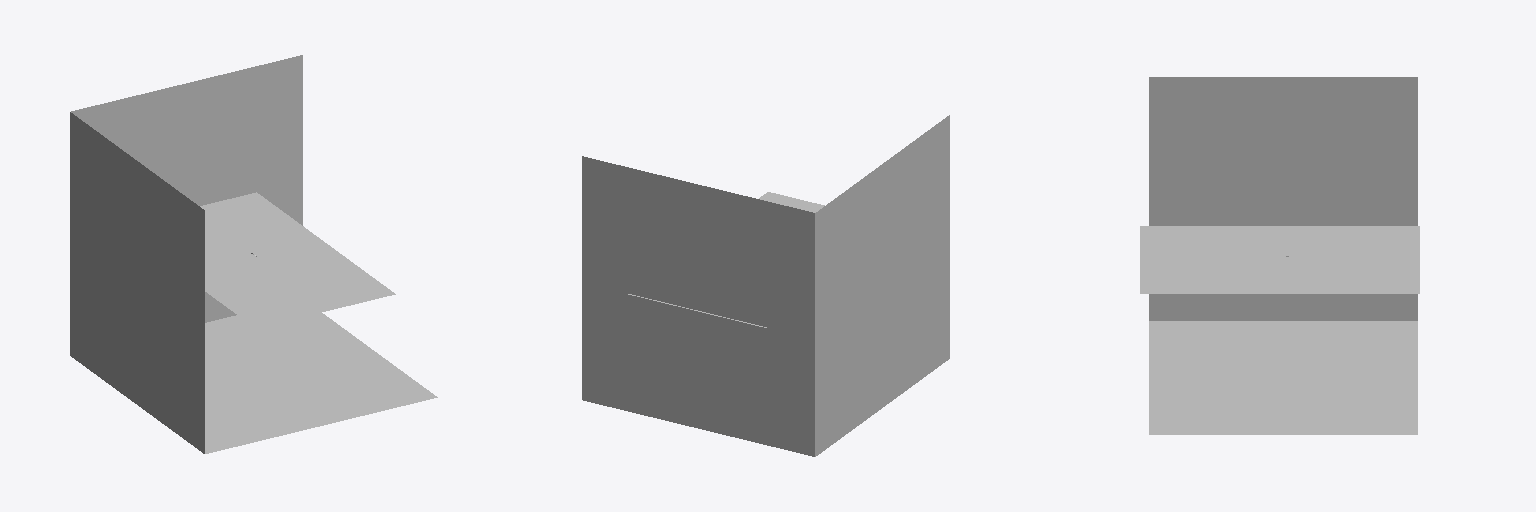
Rendered from M2HB browning.obj.
The picture shows the model from 3 angles: view 1: azimuth 30°, elevation 25°; view 2: azimuth 150°, elevation 25°; view 3: azimuth 270°, elevation 25°; orthographic projection.
Parts seen in each view (by area): view 1: Cube, Plane_Plane.001; view 2: Cube, Plane_Plane.001; view 3: Cube, Plane_Plane.001.
Boxes of the visible parts, x1=… form: Cube: x1=70, y1=55, x2=437, y2=453; Plane_Plane.001: x1=200, y1=192, x2=395, y2=327; Cube: x1=582, y1=115, x2=949, y2=456; Plane_Plane.001: x1=628, y1=192, x2=824, y2=327; Cube: x1=1149, y1=77, x2=1417, y2=434; Plane_Plane.001: x1=1140, y1=226, x2=1419, y2=293.
Size of the model in its own units: 239 by 239 by 249.